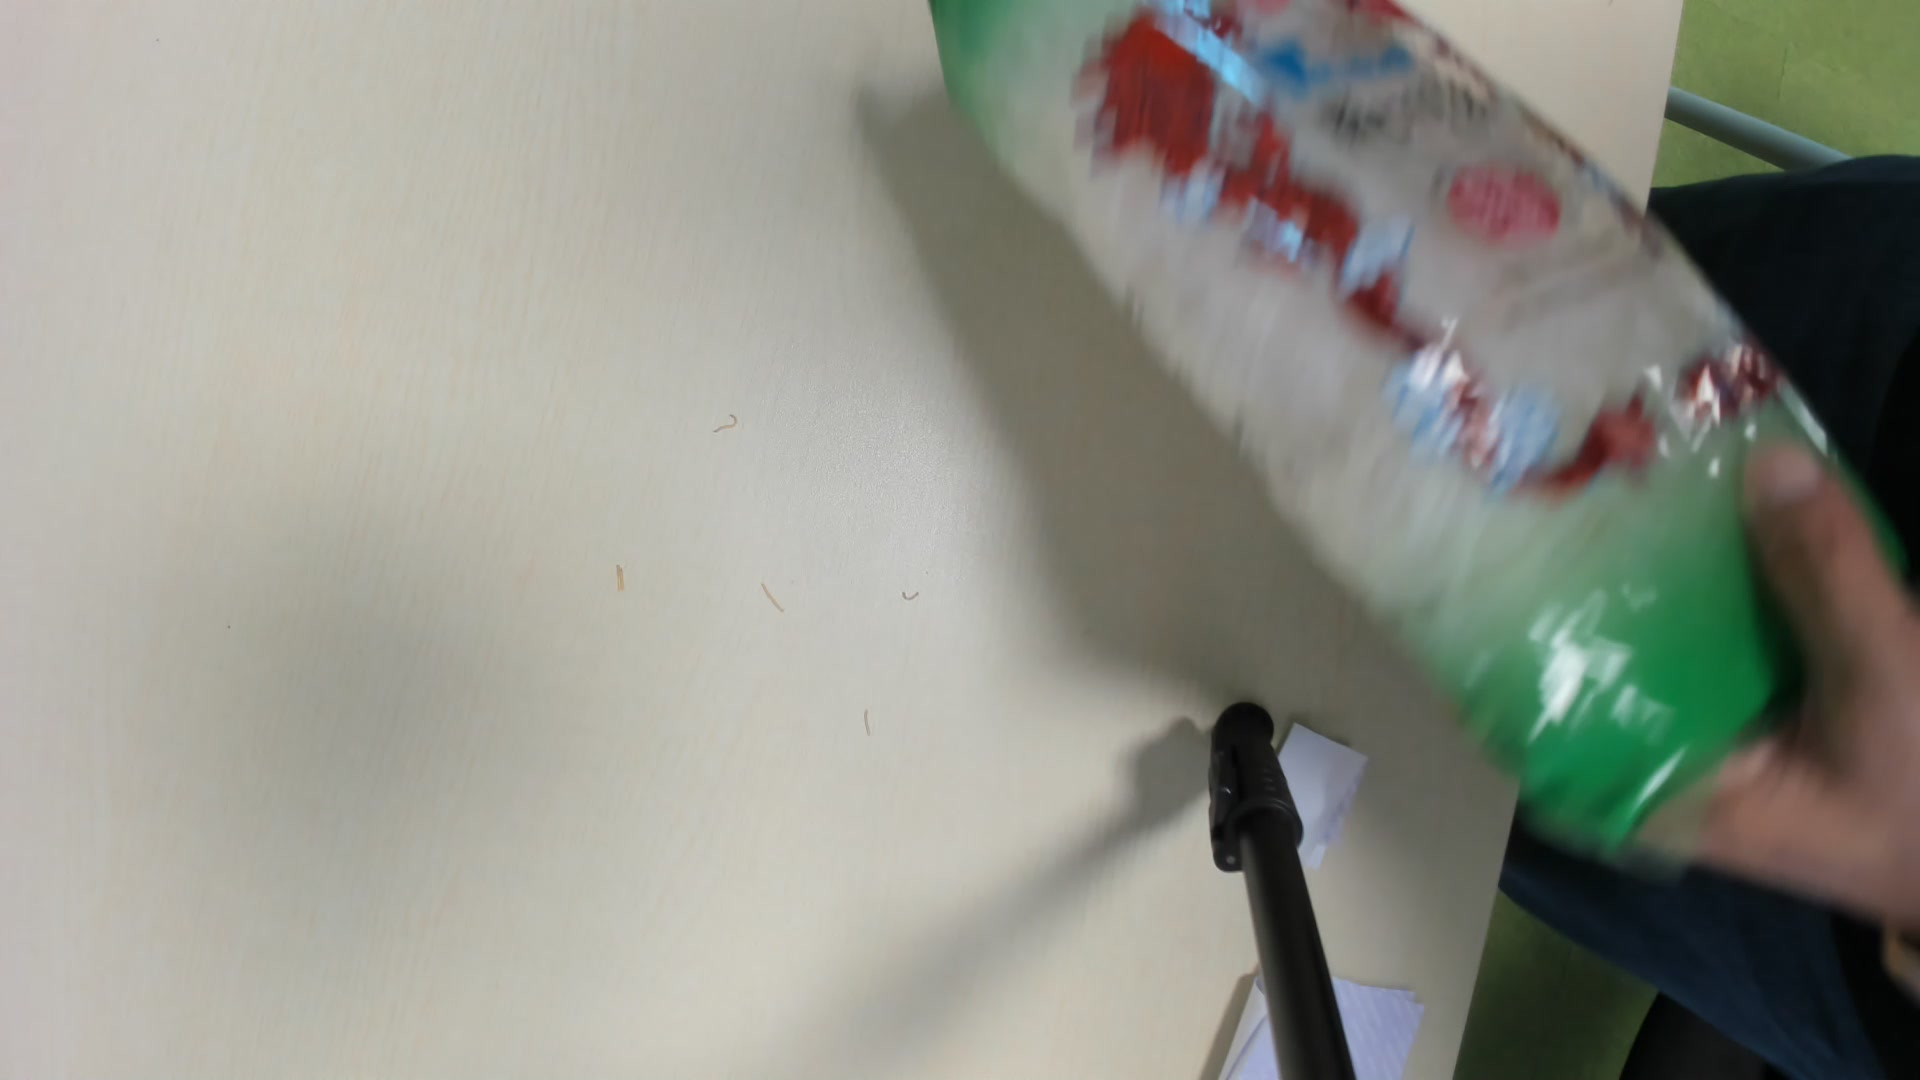BeeHoonVermicelli_200-299g_Halal_NonHealthy: (928, 3, 1898, 819)
